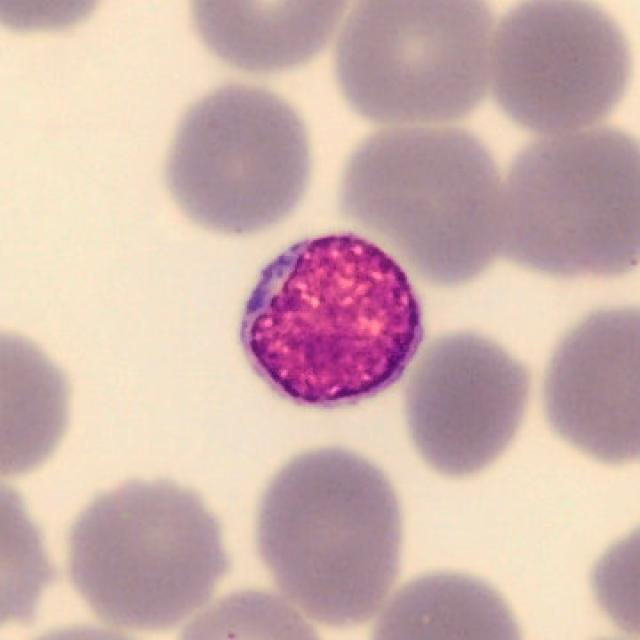Linfocito: (238, 235, 425, 407)
